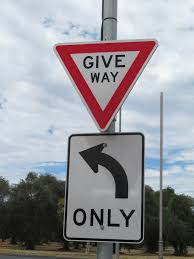giveway: (51, 38, 160, 132)
